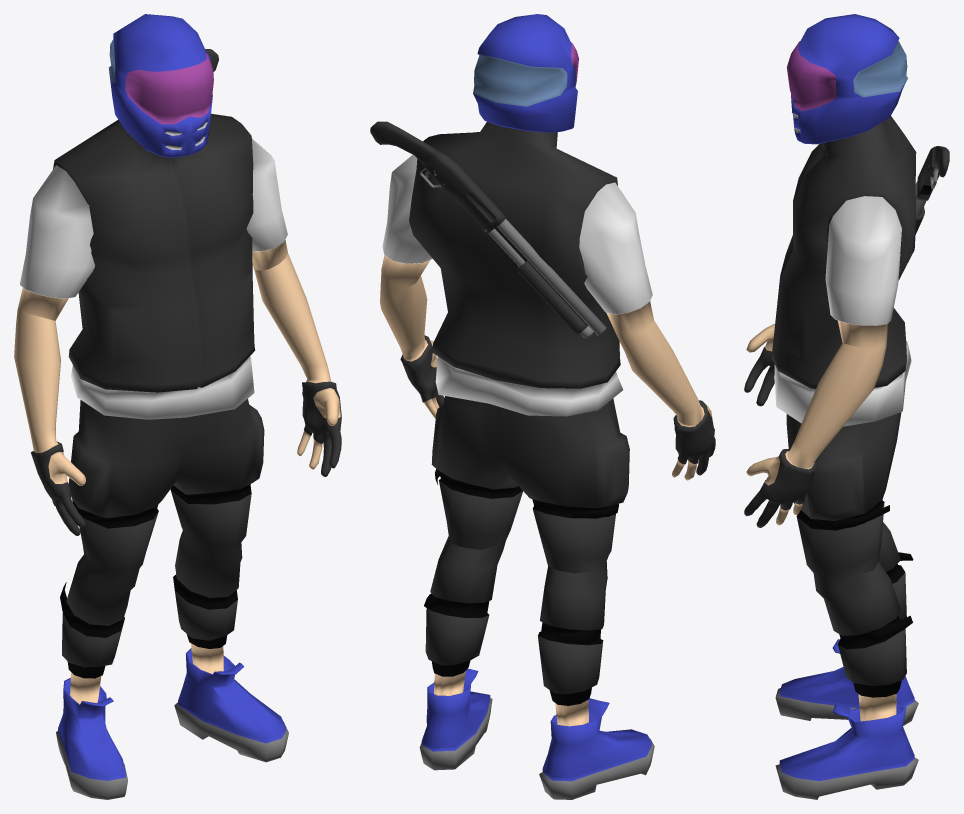
The model's file is Hipster.fbx.
The picture shows the model from 3 angles, left to right: view 1: azimuth 30°, elevation 25°; view 2: azimuth 150°, elevation 25°; view 3: azimuth 270°, elevation 25°; orthographic projection.
Parts seen in each view (by area): view 1: Плоскость.001; view 2: Плоскость.001; view 3: Плоскость.001.
Part boxes in pixels (left/top/right/bottom): Плоскость.001: left=14, top=14, right=341, bottom=799; Плоскость.001: left=370, top=14, right=715, bottom=799; Плоскость.001: left=744, top=14, right=949, bottom=799.
Bounding box in the file's own units: 412 × 972 × 248.
